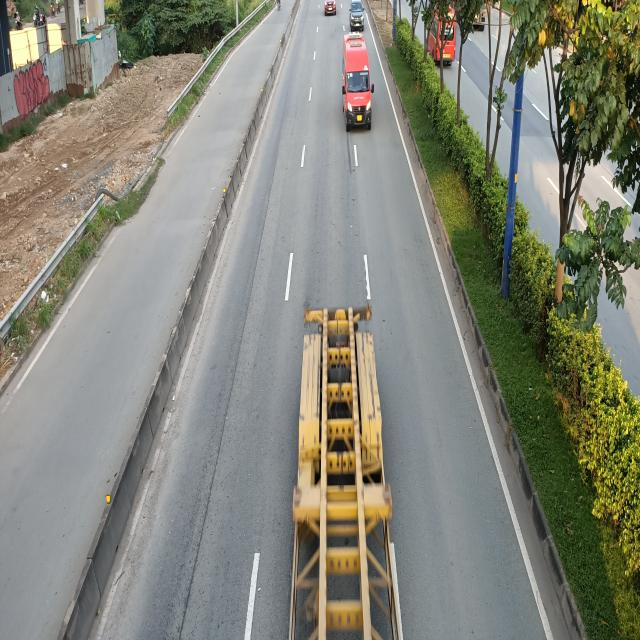car: (349, 0, 365, 31)
van: (342, 35, 375, 130)
